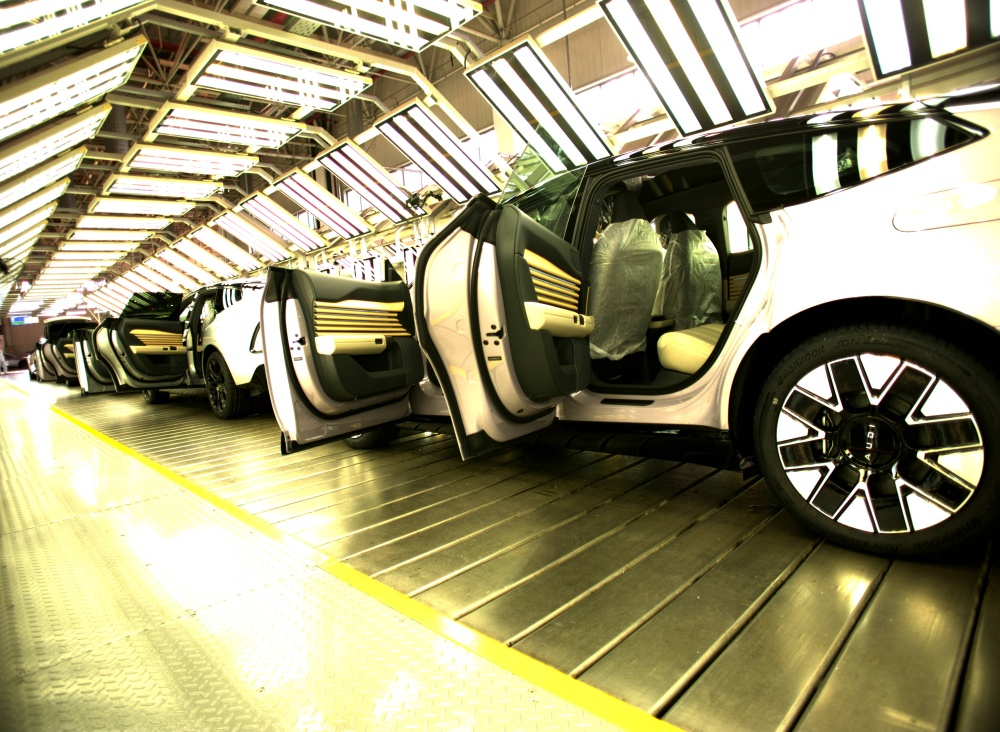armrest_color: (522, 300, 597, 339), (315, 337, 393, 357)
panel_color: (521, 246, 583, 312), (312, 295, 412, 335)
